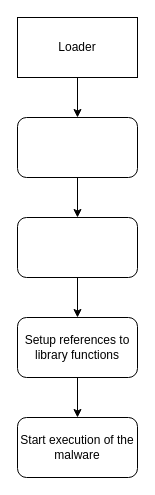
This 155x495 diagram has some shape labels left out. The centre of each missing label's shape, as x and y in pixels:
"Copy encrypted malware into memory (mmap)" belongs at point 77,147.
"Decrypt the loaded malware" belongs at point 77,247.
